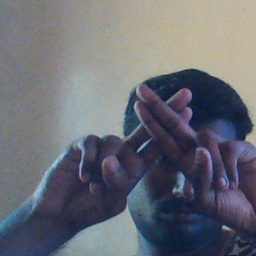F: (99, 76, 230, 201)
